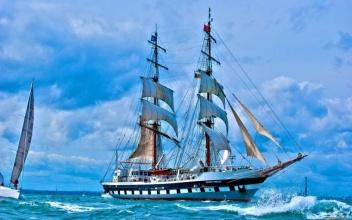fanchuan: (96, 1, 309, 196), (1, 77, 45, 198)
